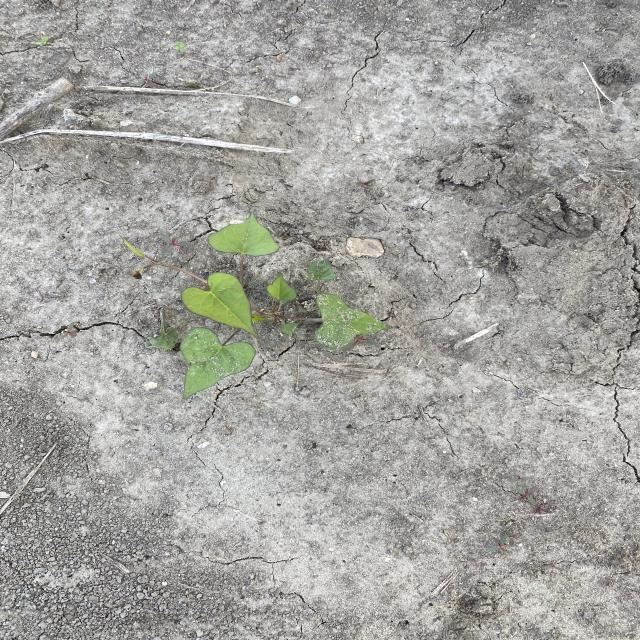MorningGlory: (116, 210, 394, 405)
